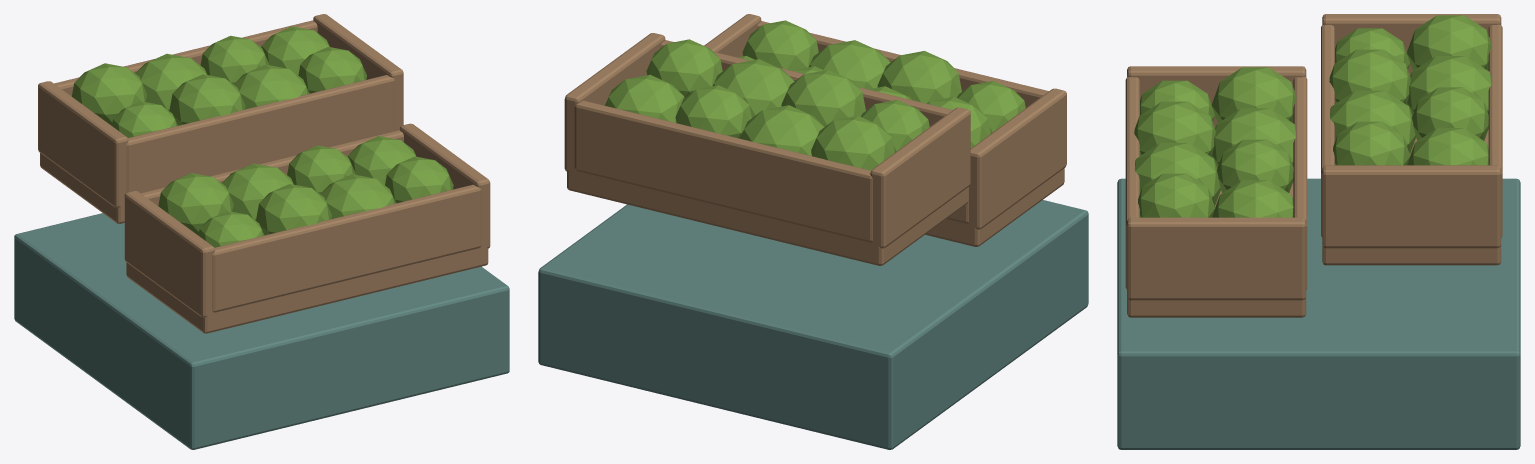
The model's file is boxbox-produce-leaf.glb.
The picture shows the model from 3 angles, left to right: view 1: azimuth 30°, elevation 25°; view 2: azimuth 150°, elevation 25°; view 3: azimuth 270°, elevation 25°; orthographic projection. The views are drawn at different scales.
Parts seen in each view (by area): view 1: WoodCrate, ShelfEnamel, Leaf; view 2: ShelfEnamel, WoodCrate, Leaf; view 3: ShelfEnamel, WoodCrate, Leaf.
Part boxes in pixels (x1,y1,x2,y2): WoodCrate: (38, 14, 490, 333); ShelfEnamel: (14, 213, 509, 449); Leaf: (72, 26, 453, 247); ShelfEnamel: (538, 200, 1088, 449); WoodCrate: (564, 14, 1066, 265); Leaf: (605, 20, 1025, 170); ShelfEnamel: (1117, 178, 1520, 449); WoodCrate: (1125, 14, 1502, 317); Leaf: (1134, 15, 1491, 217).
Size of the model in its own units: 0.65 by 0.5067 by 0.63.
